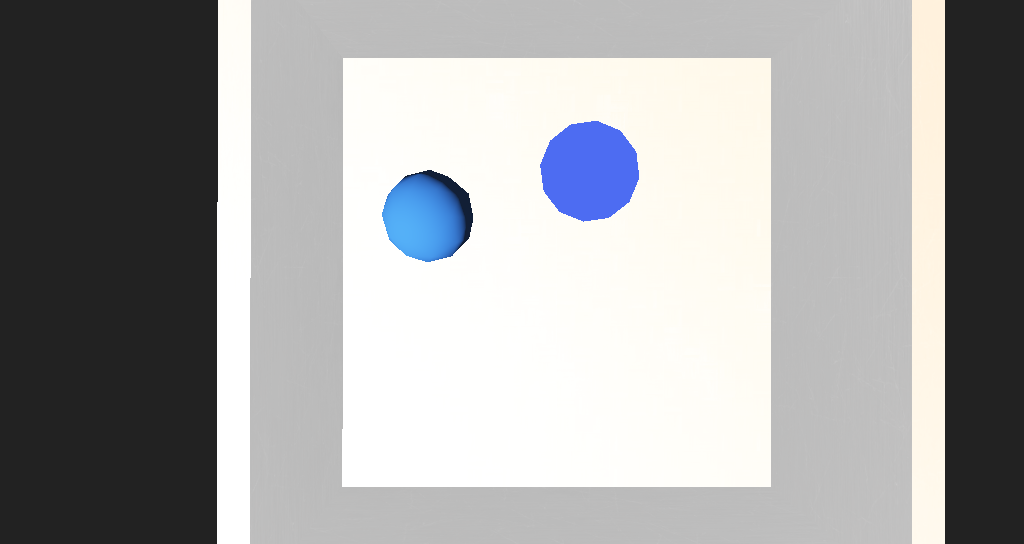cone: (906, 339, 994, 396)
cylinder: (488, 191, 563, 248)
sphere: (387, 222, 448, 265)
